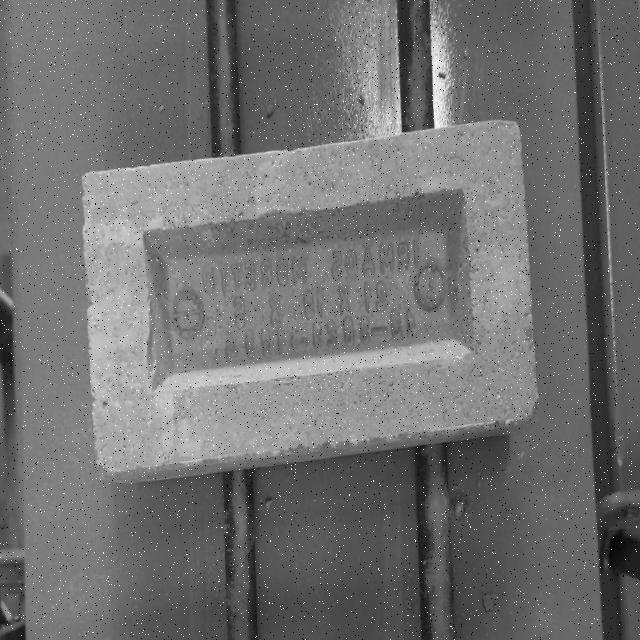bricks: (82, 118, 539, 483)
